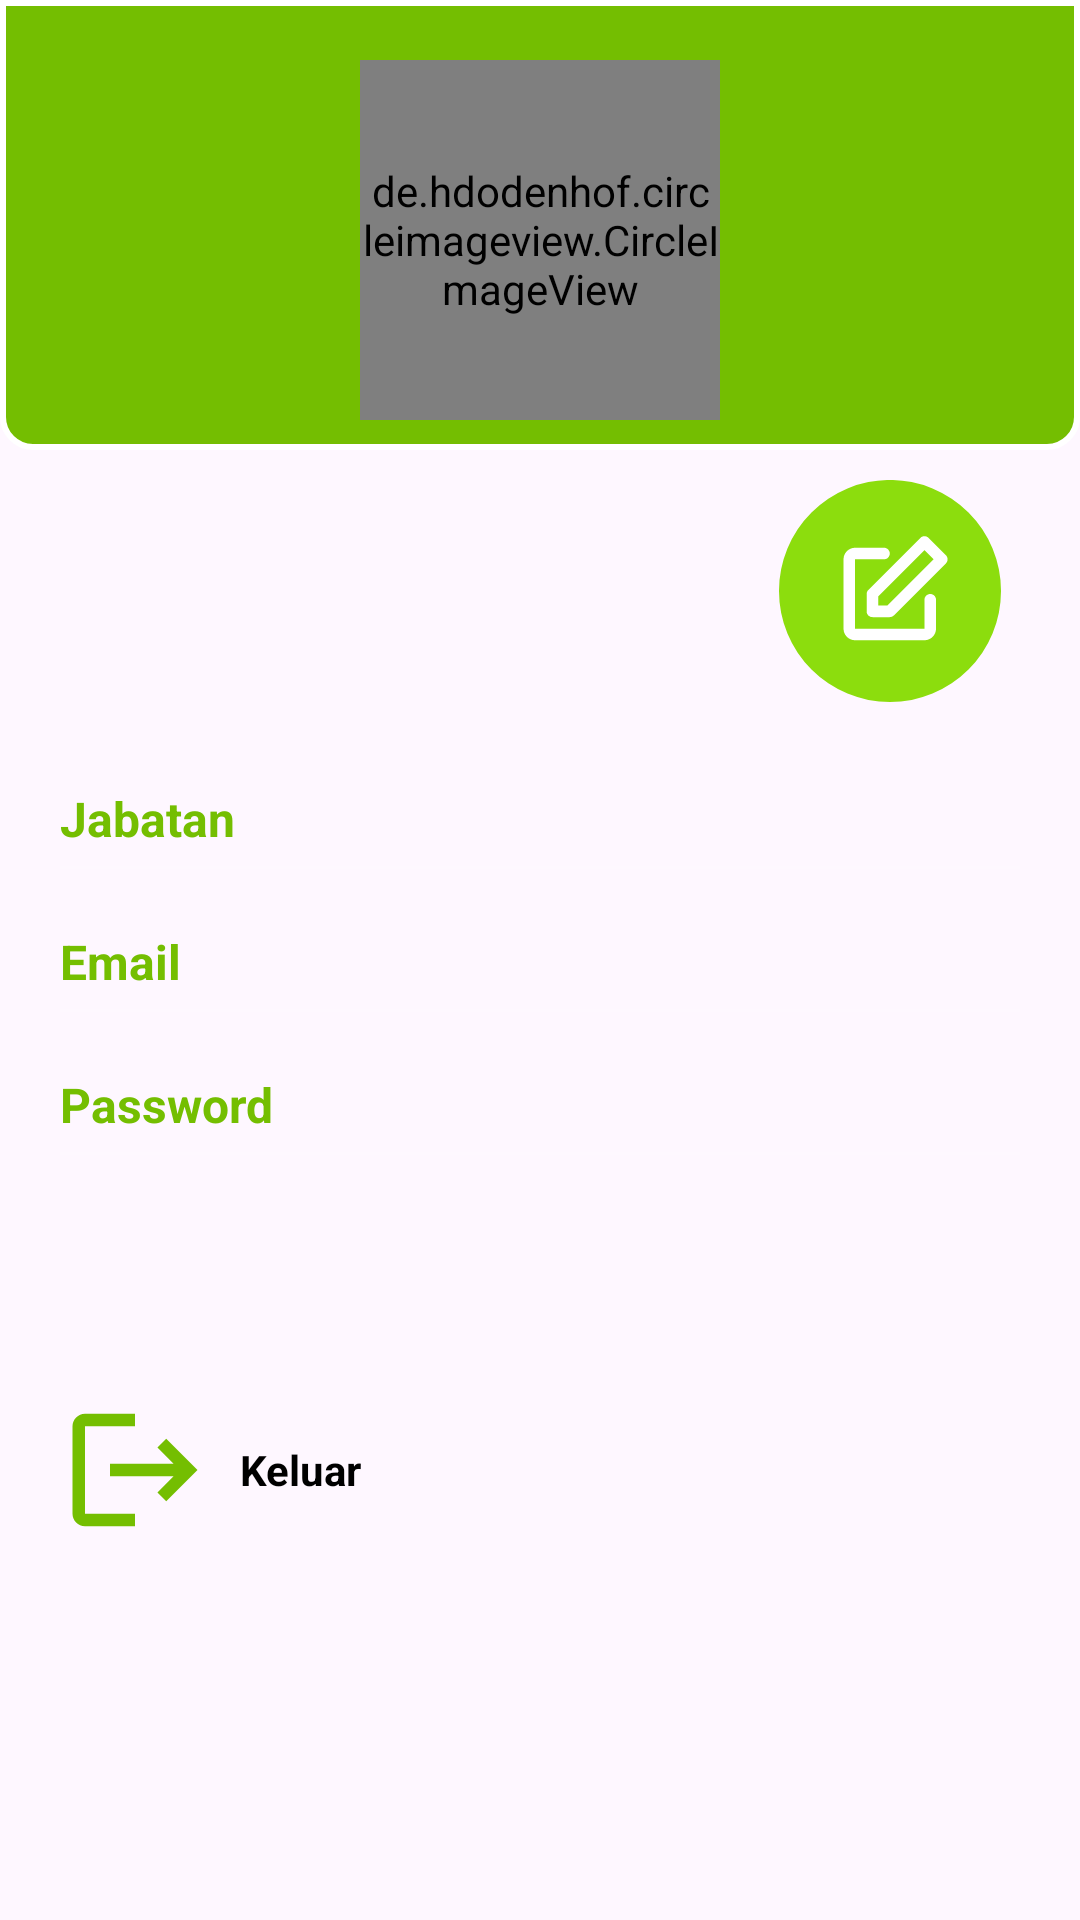

Named icons in this screenshot (1080px×1920px) and their bounding boxes, [x1=x1, y1=y1, x2=x2, y2=y2]:
edit: [x1=779, y1=480, x2=1001, y2=702]
